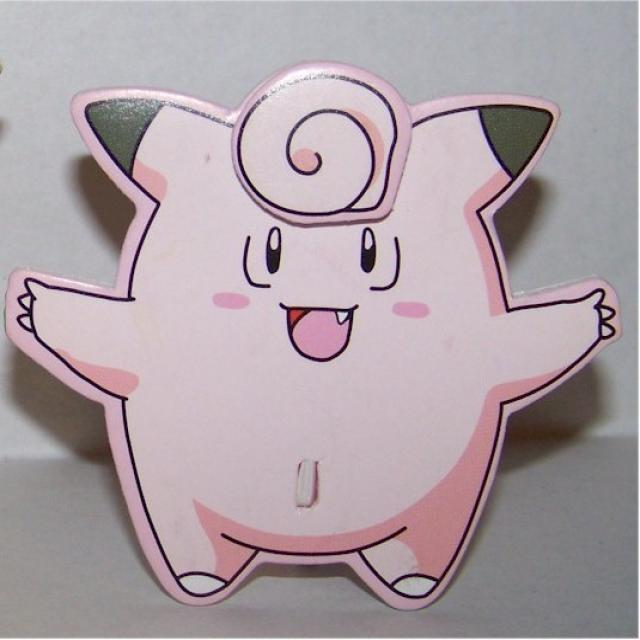Clefairy: (18, 64, 620, 601)
